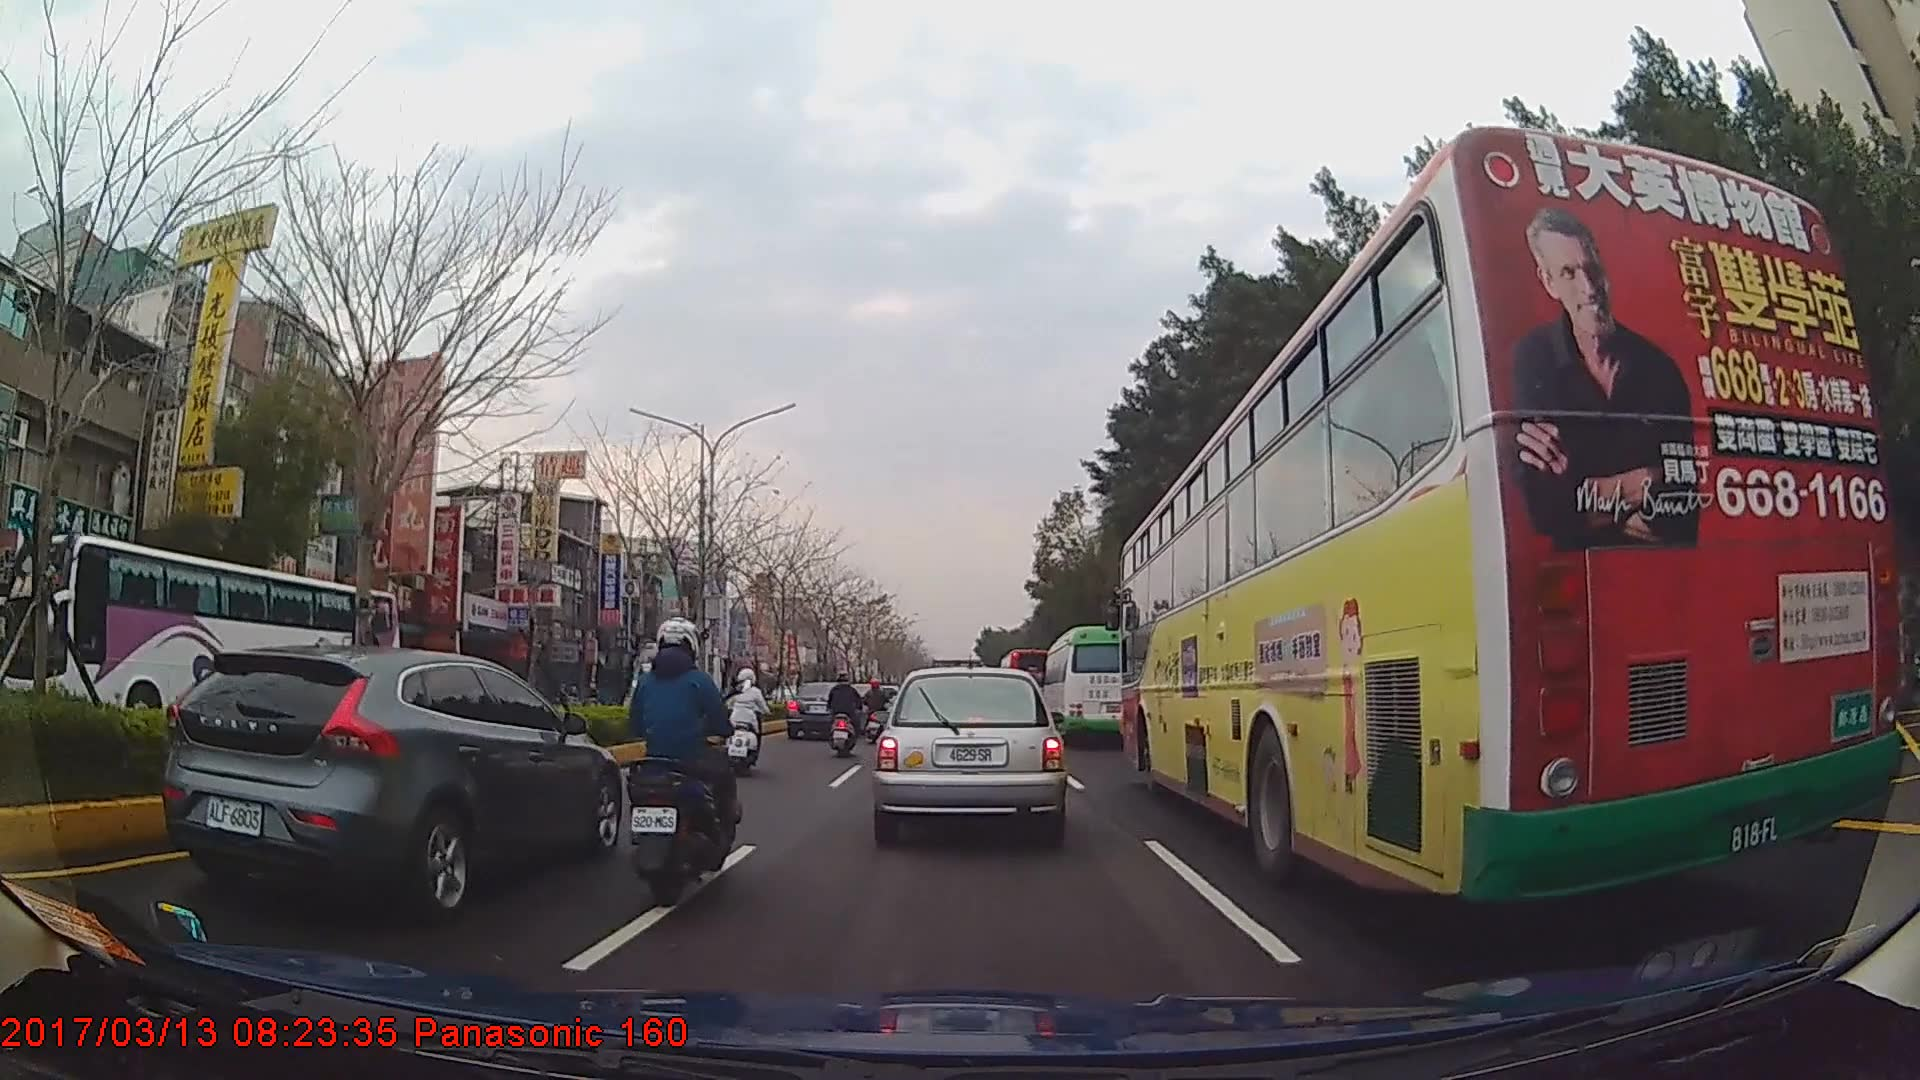rider: (627, 618, 738, 903), (722, 669, 771, 780), (828, 670, 866, 753), (861, 679, 890, 742)
vehicle: (1119, 123, 1902, 920), (160, 643, 628, 926), (25, 529, 396, 767), (874, 669, 1068, 848), (1043, 627, 1155, 751), (785, 680, 867, 741), (998, 647, 1057, 723)
